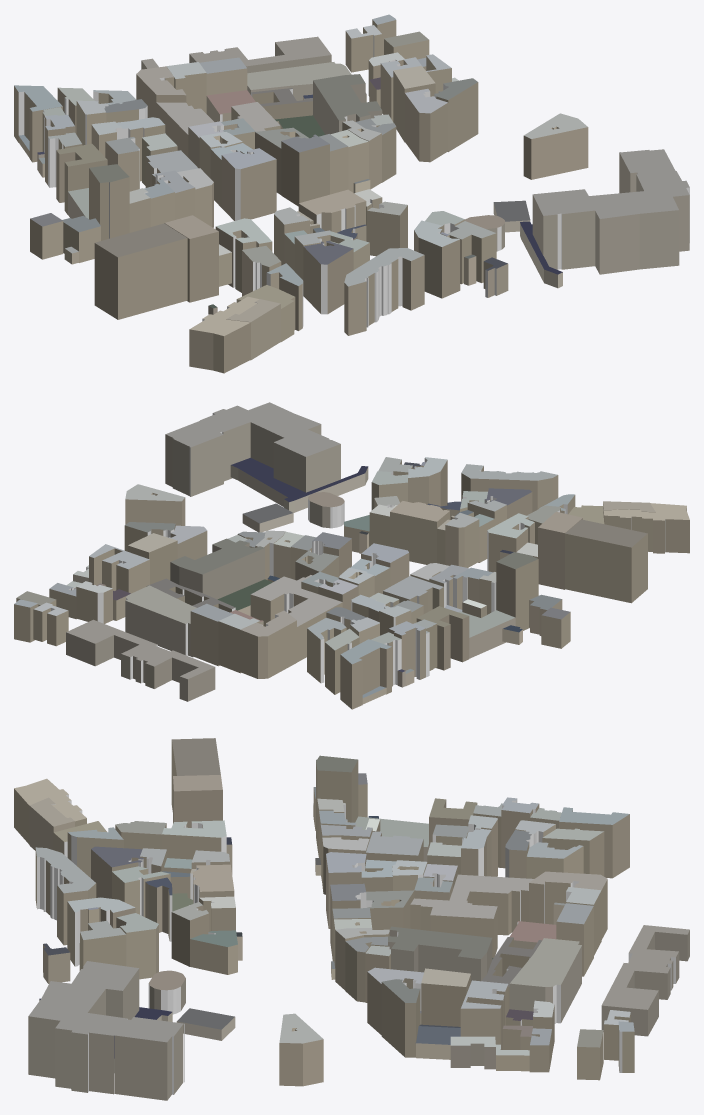
3 views of the same model, one above another, from view 1: azimuth 30°, elevation 25°; view 2: azimuth 150°, elevation 25°; view 3: azimuth 270°, elevation 25° (orthographic). The views are drawn at different scales.
Parts seen in each view (by area): view 1: tuile; view 2: tuile; view 3: tuile.
Part boxes in pixels (bbox=[...]): tuile: bbox=[14, 14, 689, 373]; tuile: bbox=[14, 402, 689, 709]; tuile: bbox=[14, 738, 689, 1100].
Size of the model in its own units: 276 by 42.84 by 282.
